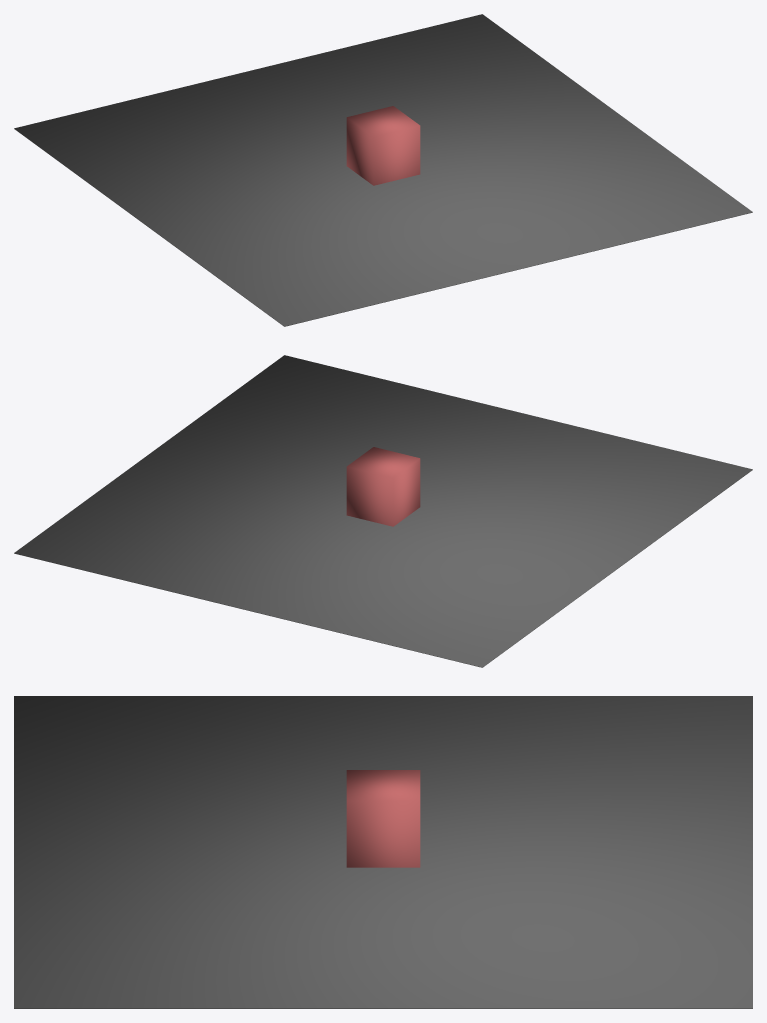
3 views of the same model, one above another, from view 1: azimuth 30°, elevation 25°; view 2: azimuth 150°, elevation 25°; view 3: azimuth 270°, elevation 25° (orthographic). The views are drawn at different scales.
Visible parts, largest first — view 1: world; view 2: world; view 3: world.
Part boxes in pixels (box(x1,y1,x2,y2)): world: box(14, 14, 752, 326); world: box(14, 355, 752, 667); world: box(14, 696, 752, 1008).
Bounding box in the file's own units: 100 × 20 × 100.
